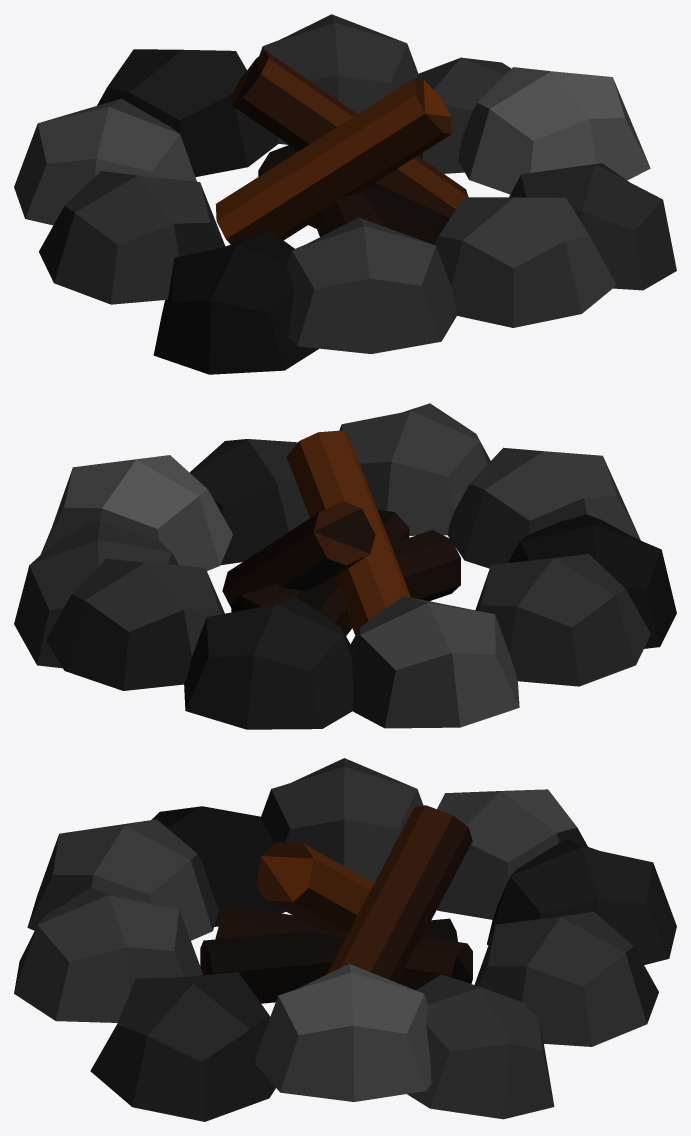
The model's file is FirePlace.fbx.
The picture shows the model from 3 angles, top to bottom: view 1: azimuth 30°, elevation 25°; view 2: azimuth 150°, elevation 25°; view 3: azimuth 270°, elevation 25°; orthographic projection.
Visible parts, largest first — view 1: FirePlace; view 2: FirePlace; view 3: FirePlace.
Boxes of the visible parts, x1=… form: FirePlace: x1=14, y1=14, x2=676, y2=374; FirePlace: x1=14, y1=403, x2=676, y2=729; FirePlace: x1=14, y1=758, x2=676, y2=1121.
Bounding box in the file's own units: 199 × 60.54 × 193.
